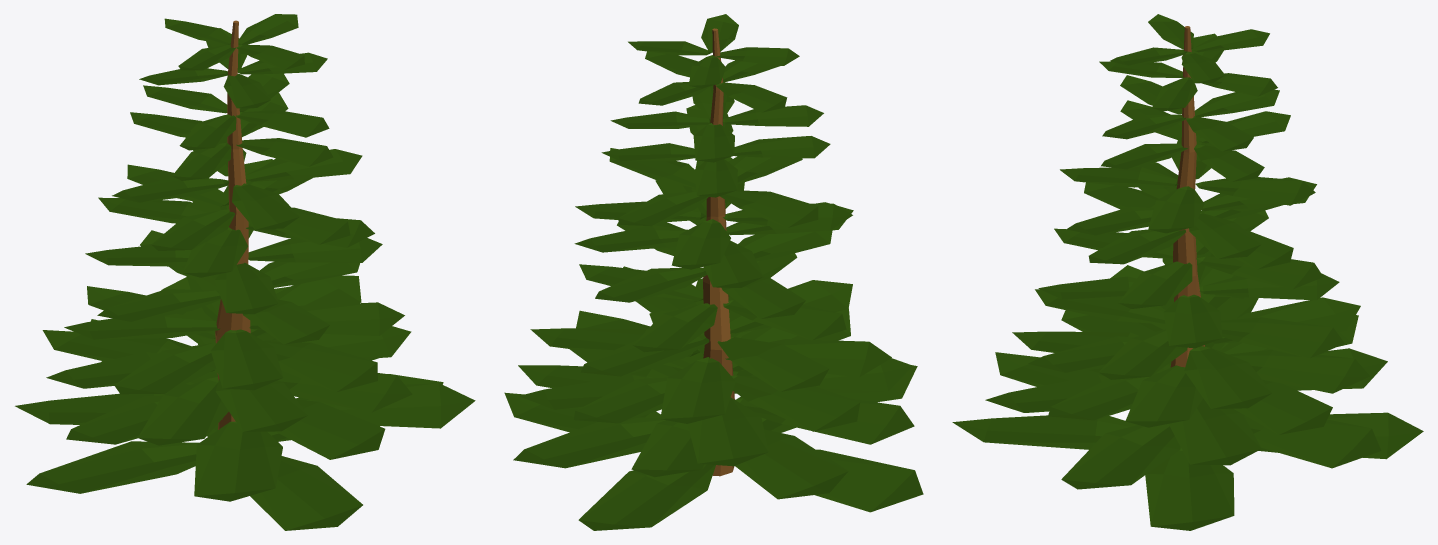
Rendered from leaf tree.fbx.
3 views of the same model, side by side, from view 1: azimuth 30°, elevation 25°; view 2: azimuth 150°, elevation 25°; view 3: azimuth 270°, elevation 25° (orthographic). The views are drawn at different scales.
Parts seen in each view (by area): view 1: Tree; view 2: Tree; view 3: Tree.
Boxes of the visible parts, x1=… form: Tree: x1=15, y1=14, x2=475, y2=530; Tree: x1=504, y1=14, x2=923, y2=530; Tree: x1=952, y1=14, x2=1423, y2=530.
Bounding box in the file's own units: 7024 × 7028 × 7010.
